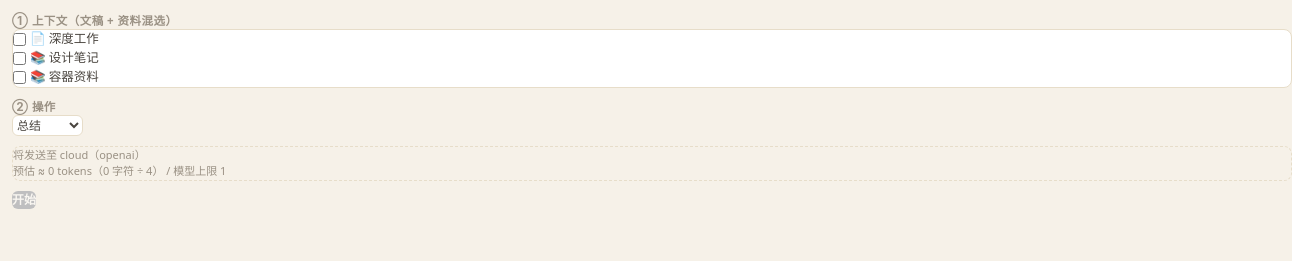
Test: AIWorkbench › token 超限警告：估算超 maxContext → 分批/截断/换模型提示
This screenshot has width=1292, height=261.
Click the checkbox with test id "ctx-post-p1" at (20, 40), box [13,33,26,46]
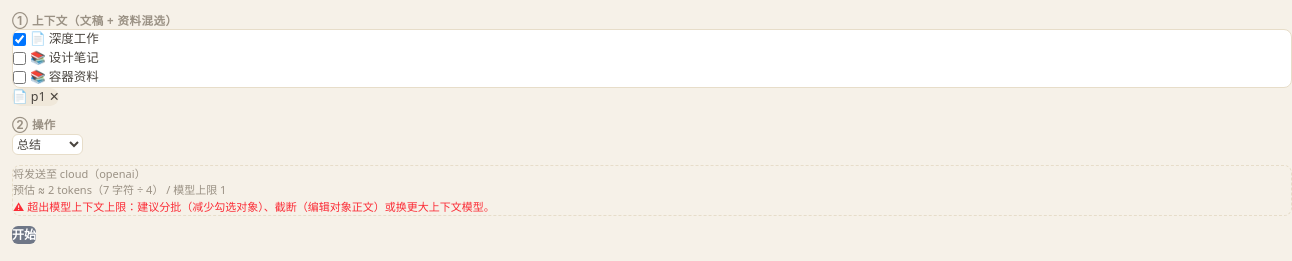
Result: the text with test id "ai-token-warning" shows "分批" at [13,198,495,214]
